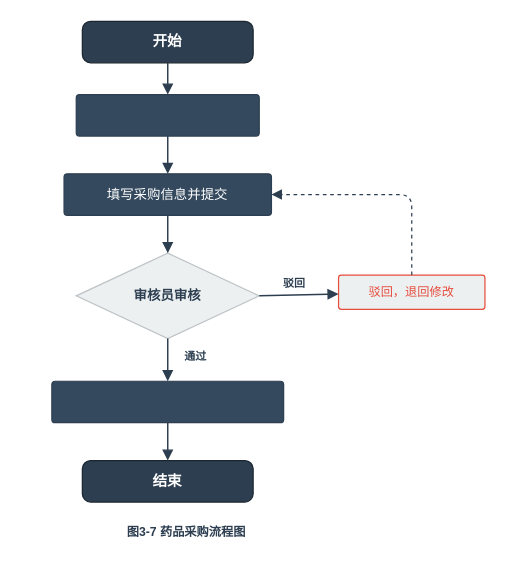
Some shapes in this 506 by 562 pixel diagram are drawn without their labels. The shapes that lost their labels are listed below. From the top down, each one's box as (x1, y1, x2, y2) in pixels, then its label:
(75, 93, 259, 136): 创建采购订单
(51, 380, 284, 423): 订单生效，生成采购记录
